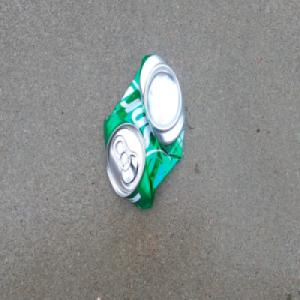SodaCan: (102, 52, 186, 211)
